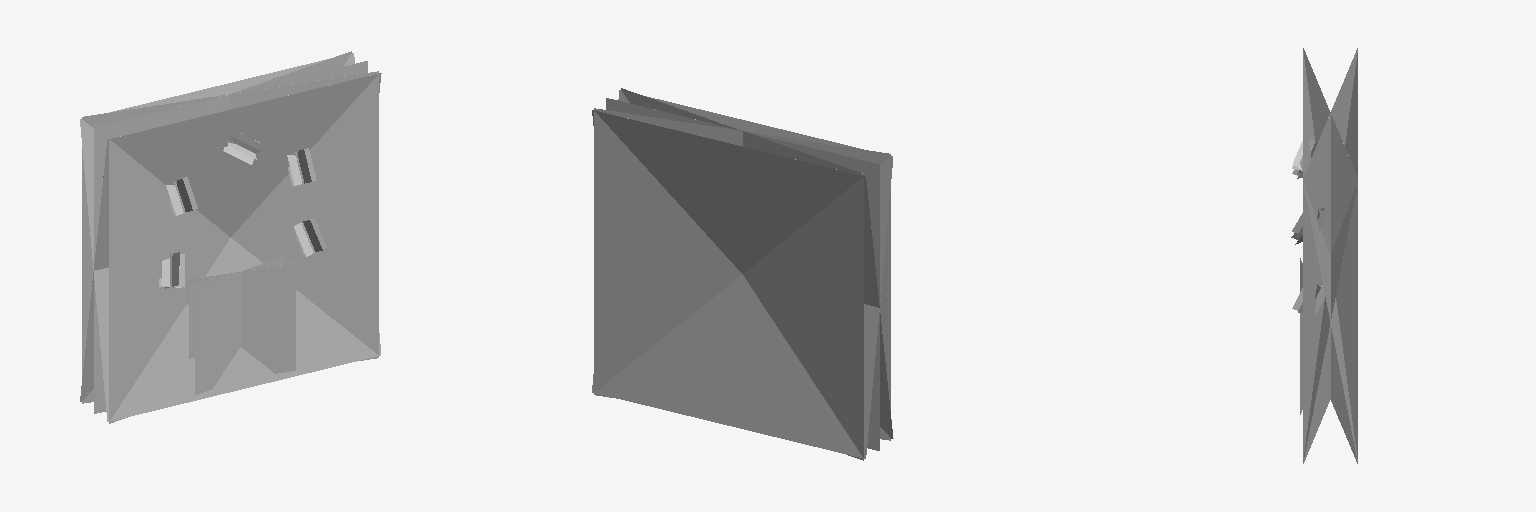
Rendered from 675_cmas_wreath.obj.
3 renders of one model, left to right at view 1: azimuth 30°, elevation 25°; view 2: azimuth 150°, elevation 25°; view 3: azimuth 270°, elevation 25°, orthographic.
Parts seen in each view (by area): view 1: Shape2, Shape4, Shape3, Shape5, Bow2, Bow3, Shape1, Pinecone1c, Pinecone1a, Bow1; view 2: Shape3, Shape4, Shape5, Shape2, Shape1; view 3: Shape3, Shape2, Shape5, Shape4.
Boxes of the visible parts, x1=… form: Shape2: x1=82, y1=71, x2=378, y2=403; Shape4: x1=80, y1=73, x2=381, y2=401; Shape3: x1=109, y1=51, x2=351, y2=423; Shape5: x1=80, y1=53, x2=380, y2=421; Bow2: x1=187, y1=263, x2=295, y2=373; Bow3: x1=195, y1=256, x2=283, y2=394; Shape1: x1=94, y1=61, x2=367, y2=413; Pinecone1c: x1=165, y1=137, x2=322, y2=288; Pinecone1a: x1=159, y1=133, x2=326, y2=286; Bow1: x1=189, y1=259, x2=291, y2=358; Shape3: x1=594, y1=108, x2=890, y2=440; Shape4: x1=592, y1=90, x2=892, y2=458; Shape5: x1=592, y1=110, x2=893, y2=438; Shape2: x1=621, y1=88, x2=863, y2=460; Shape1: x1=606, y1=98, x2=879, y2=450; Shape3: x1=1303, y1=48, x2=1357, y2=463; Shape2: x1=1303, y1=48, x2=1357, y2=463; Shape5: x1=1303, y1=53, x2=1357, y2=461; Shape4: x1=1303, y1=52, x2=1357, y2=460.
Bounding box in the file's own units: 1 × 1 × 0.4931.